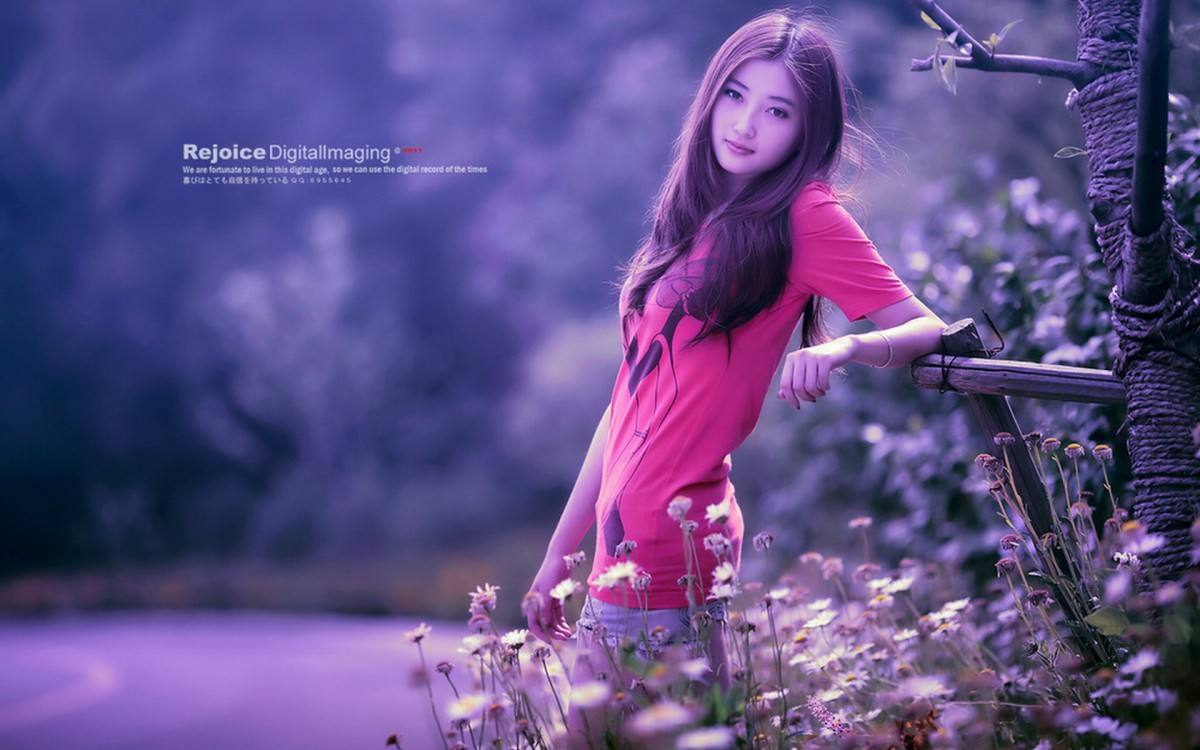person: (540, 25, 923, 668)
